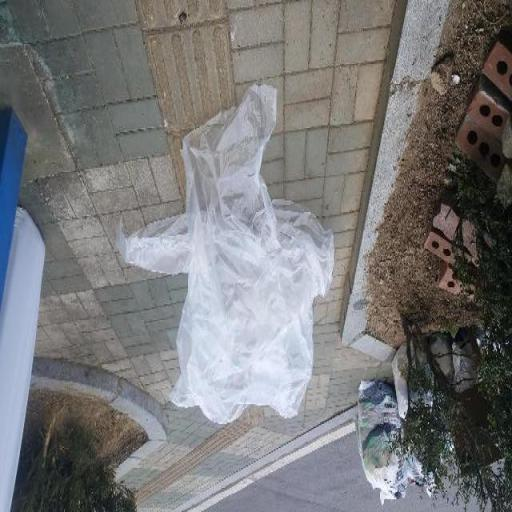plastic-bag: (113, 79, 338, 428)
